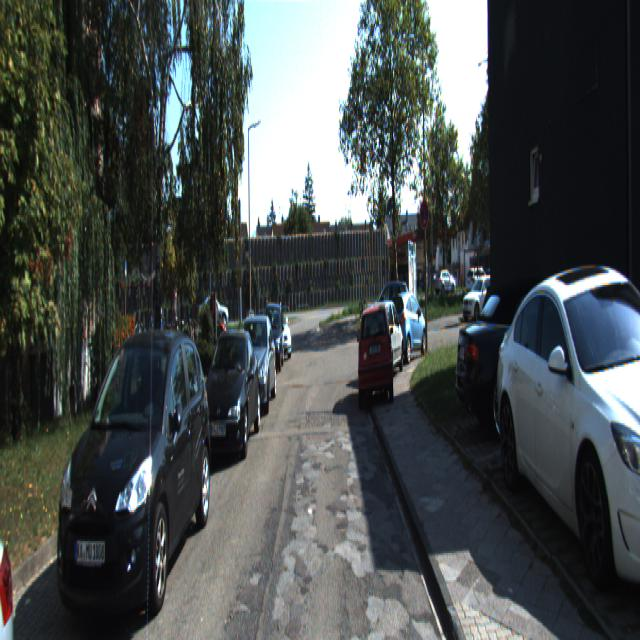Car: (492, 248, 640, 622), (50, 323, 215, 638), (456, 270, 632, 450), (198, 322, 262, 466), (233, 312, 279, 418), (356, 294, 395, 412), (365, 299, 405, 386), (387, 288, 428, 366), (259, 299, 285, 376), (261, 300, 292, 358), (463, 276, 503, 320), (198, 297, 230, 333)
